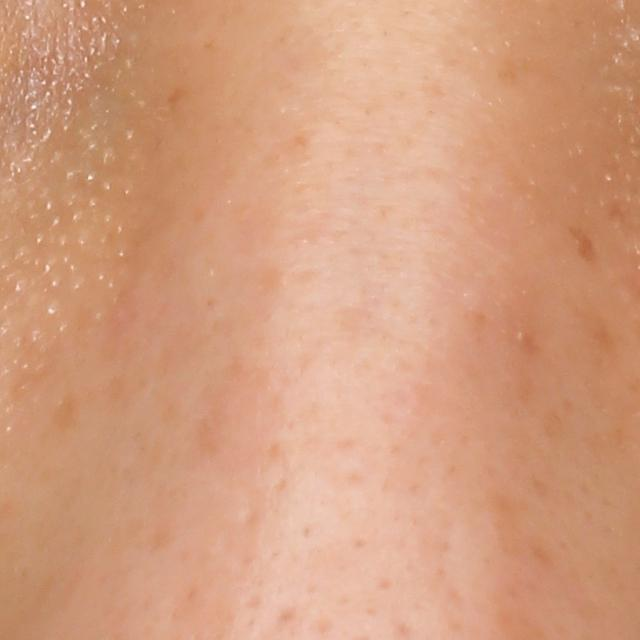melasma: (561, 227, 601, 265), (50, 390, 83, 428)
